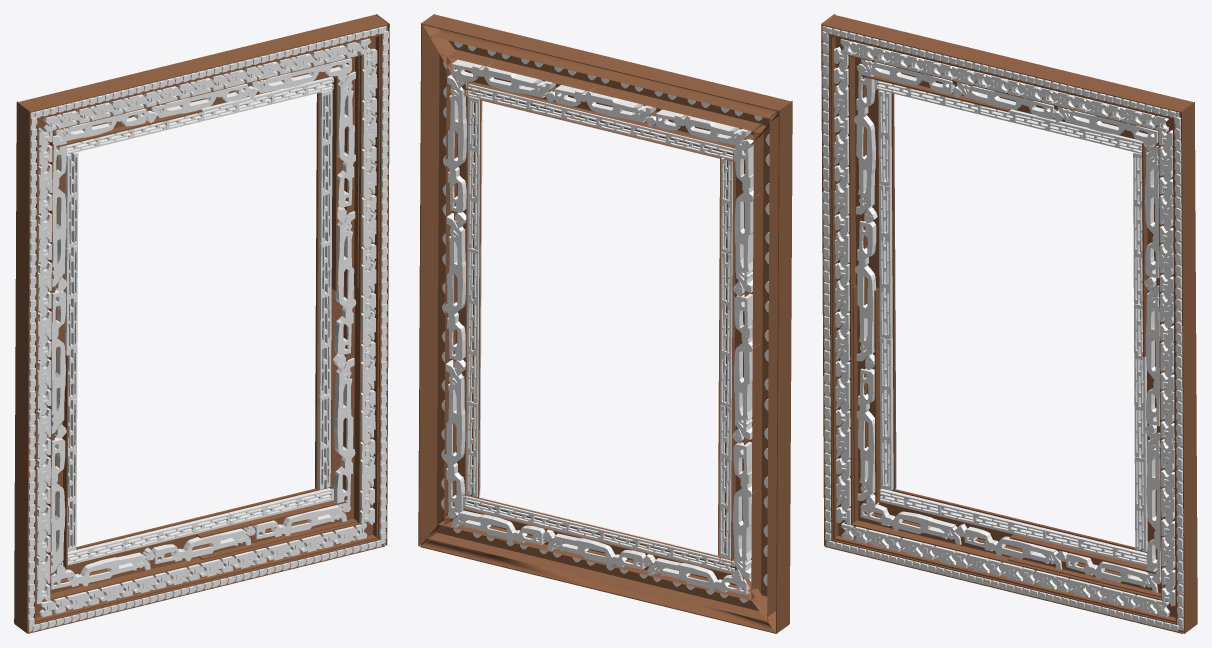
The model's file is mirrorFrame_detailed.obj.
The picture shows the model from 3 angles, left to right: view 1: azimuth 30°, elevation 25°; view 2: azimuth 150°, elevation 25°; view 3: azimuth 330°, elevation 25°; orthographic projection.
Visible parts, largest first — view 1: mirrorFrame_detailed; view 2: mirrorFrame_detailed; view 3: mirrorFrame_detailed.
Boxes of the visible parts, left/top/right/bottom form: mirrorFrame_detailed: left=14, top=14, right=389, bottom=633; mirrorFrame_detailed: left=418, top=14, right=792, bottom=633; mirrorFrame_detailed: left=821, top=14, right=1197, bottom=633.
Bounding box in the file's own units: 1.35 × 1.88 × 0.1111.
